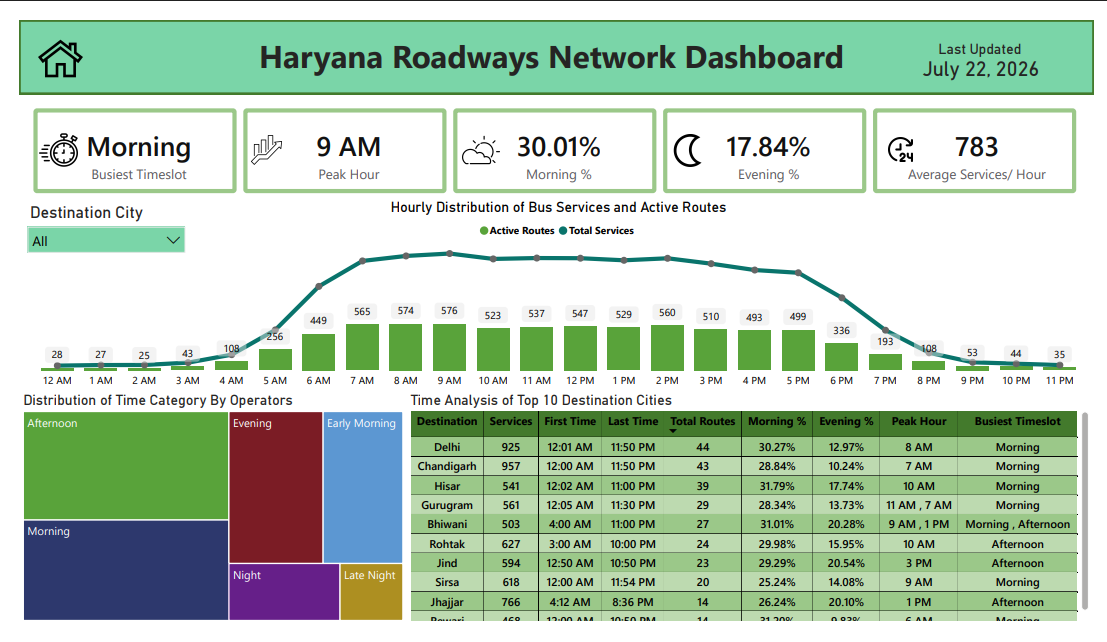

This screenshot's page, from the dashboard's own definition file:
{"tool":"powerbi","page":{"name":"Time Analysis","canvas":[1280,720],"ordinal":2},"visuals":[{"type":"shape","title":"Haryana Roadways Network Dashboard","box":[0,0,1280.5,87.8],"z":0},{"type":"textbox","box":[281,11.7,715.6,62.9],"z":1000},{"type":"treemap","title":"Distribution of Time Category By Operators","fields":{"Group":["final.Time Category"],"Values":["Count(final.Operator)"]},"box":[0,441.7,461.7,278.3],"z":2000},{"type":"tableEx","title":"Time Analysis of Top 10 Destination Cities","fields":{"Values":["final.To","Distinct Operator.Services","final.First Time","final.Last Time","final.Total Routes","final.Morning %","final.Evening %","final.Peak Hour","final.Busiest Timeslot"]},"box":[461,441.7,818.3,278.3],"z":3000},{"type":"cardVisual","fields":{"Data":["final.Busiest Timeslot","final.Busiest Hour","final.morning","final.Evening %","final.Average Services/ Hour"]},"box":[0,87.6,1280,135.9],"z":4000},{"type":"lineClusteredColumnComboChart","title":"Hourly Distribution of Bus Services and Active Routes","fields":{"Y2":["final.Total Services"],"Y":["final.Total Routes"],"Category":["final.hourlylabel"]},"box":[0,211.7,1280,230],"z":5000},{"type":"slicer","fields":{"Values":["final.To"]},"box":[0,211.7,208.3,85],"z":6000},{"type":"image","box":[23.4,132,46.8,45.4],"z":10000},{"type":"image","box":[263.4,134.6,61.5,39.5],"z":11000},{"type":"image","box":[1015.6,140.5,67.3,27.8],"z":12000},{"type":"image","box":[753.7,136.1,83.4,38],"z":13000},{"type":"image","box":[518,133.2,62.9,43.9],"z":14000},{"type":"card","fields":{"Values":["final.Last Updated"]},"box":[1044.9,23.4,202,67.3],"z":15000},{"type":"textbox","box":[1090.2,19,118.5,36.6],"z":16000},{"type":"image","title":"sliceropen","box":[23.3,18.3,51.7,55],"z":16500}]}

Visuals, with their boxes on the page's 1280x720 design canvas (x1, y1, x2, y2). These are canvas units, not pixel positions in the 1107x642 screenshot, which may show the page scaled, cropped or inside an application window:
"Haryana Roadways Network Dashboard" shape: (0,0,1280,88)
textbox: (281,12,997,75)
"Distribution of Time Category By Operators" treemap: (0,442,462,720)
"Time Analysis of Top 10 Destination Cities" tableEx: (461,442,1279,720)
cardVisual - final.Busiest Timeslot x final.Busiest Hour: (0,88,1280,224)
"Hourly Distribution of Bus Services and Active Routes" lineClusteredColumnComboChart: (0,212,1280,442)
slicer - final.To: (0,212,208,297)
image: (23,132,70,177)
image: (263,135,325,174)
image: (1016,140,1083,168)
image: (754,136,837,174)
image: (518,133,581,177)
card - final.Last Updated: (1045,23,1247,91)
textbox: (1090,19,1209,56)
"sliceropen" image: (23,18,75,73)
